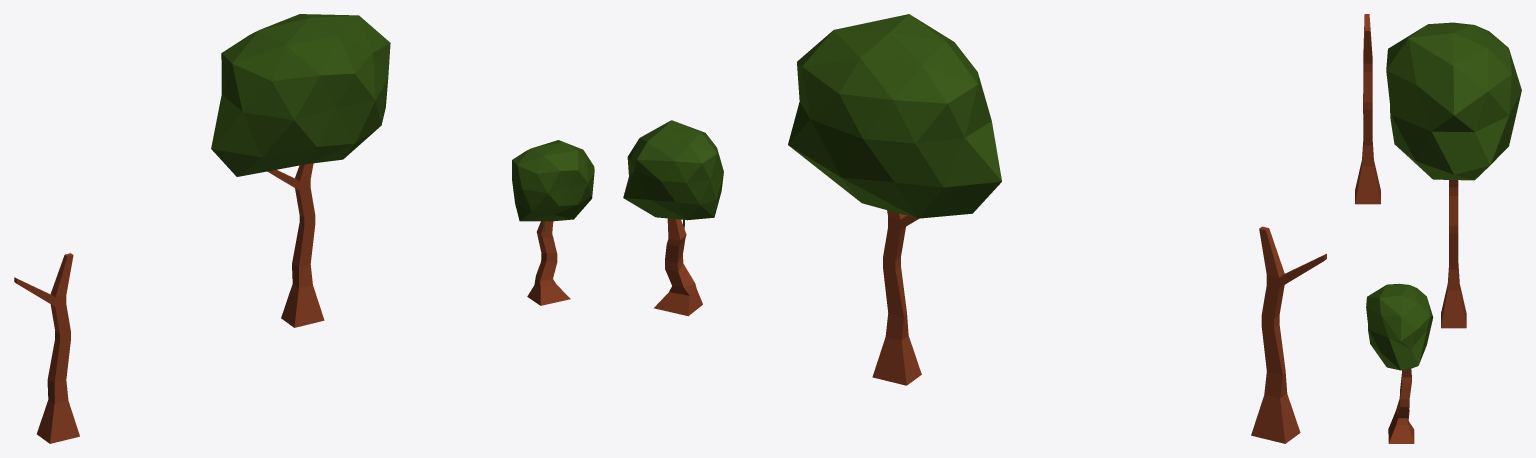
File: Arvores.fbx
3 renders of one model, left to right at view 1: azimuth 30°, elevation 25°; view 2: azimuth 150°, elevation 25°; view 3: azimuth 270°, elevation 25°, orthographic. The views are drawn at different scales.
Parts seen in each view (by area): view 1: Icosphere, Icosphere.001, Cube.004, Cube.002, Cube.003; view 2: Icosphere, Icosphere.001, Cube.004, Cube.002, Cube.003; view 3: Icosphere, Icosphere.001, Cube.004, Cube.002, Cube.003.
Boxes of the visible parts, left/top/right/bottom form: Icosphere: left=211, top=14, right=390, bottom=176; Icosphere.001: left=512, top=140, right=594, bottom=221; Cube.004: left=14, top=253, right=79, bottom=443; Cube.002: left=267, top=163, right=324, bottom=327; Cube.003: left=527, top=221, right=570, bottom=305; Icosphere: left=788, top=14, right=1001, bottom=218; Icosphere.001: left=623, top=120, right=723, bottom=220; Cube.004: left=1251, top=226, right=1326, bottom=443; Cube.002: left=872, top=210, right=921, bottom=385; Cube.003: left=654, top=218, right=702, bottom=316; Icosphere: left=1386, top=22, right=1521, bottom=180; Icosphere.001: left=1366, top=283, right=1433, bottom=370; Cube.004: left=1355, top=14, right=1380, bottom=204; Cube.002: left=1441, top=180, right=1466, bottom=328; Cube.003: left=1388, top=369, right=1414, bottom=443.
Size of the model in its own units: 1399 by 703 by 350.
